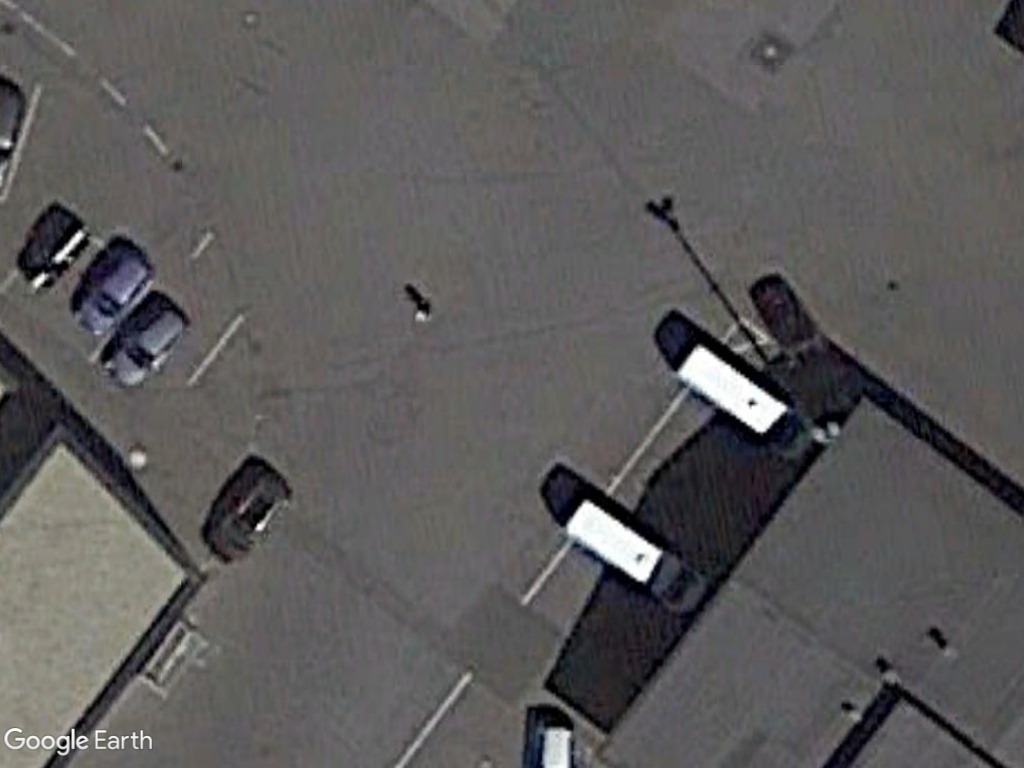car: (74, 251, 155, 341), (107, 300, 186, 391)
van: (664, 337, 825, 468), (558, 489, 710, 616)
